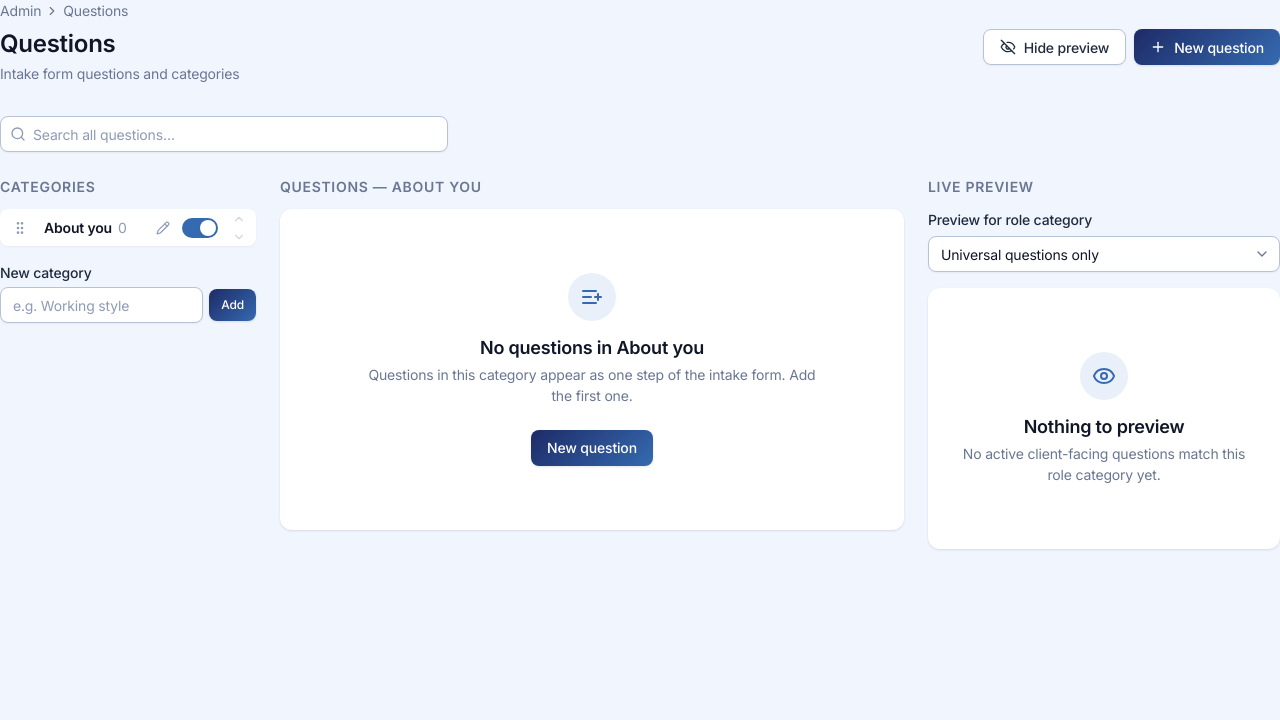
Scenario: validation rules adapt to the question type › shows text rules for short_text and swaps them per type
Click the 1st button "New question" at (1207, 47), box [1134,29,1279,65]
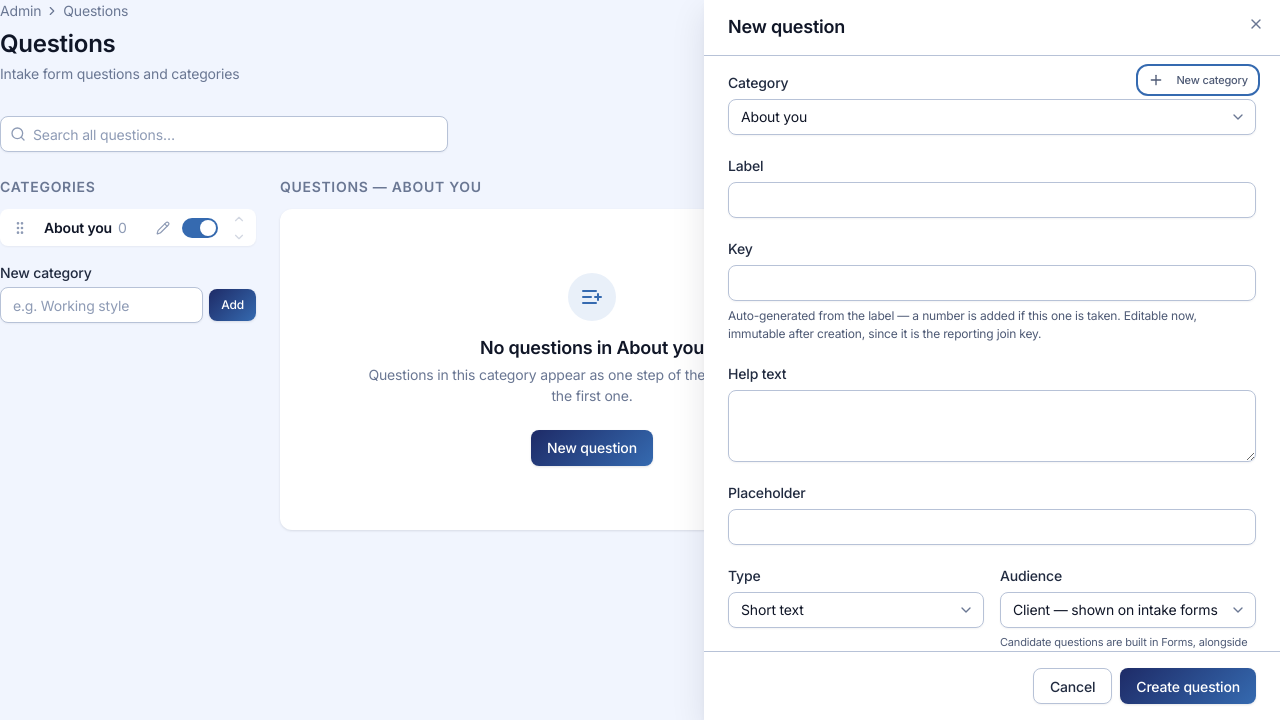
Select "Scale" in the dropdown labelled "Type" at (856, 610), box [728,592,984,628]
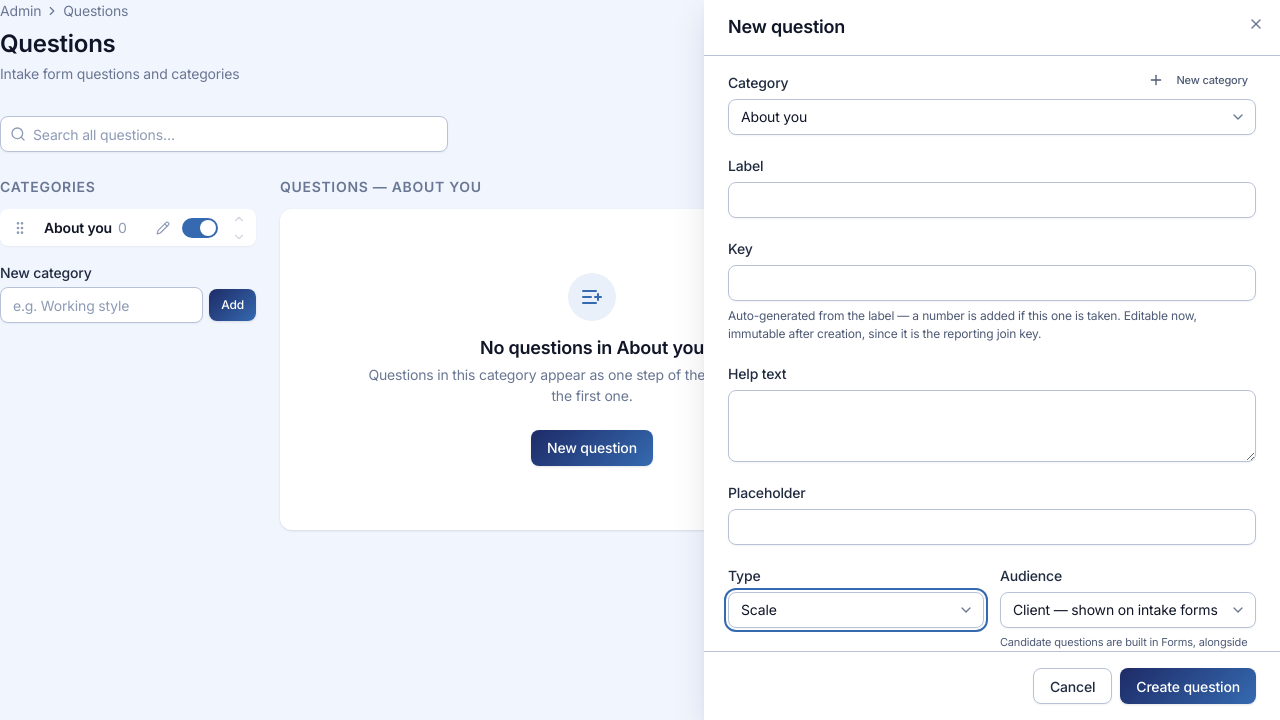
Select "Multi select" in the dropdown labelled "Type" at (856, 610), box [728,592,984,628]
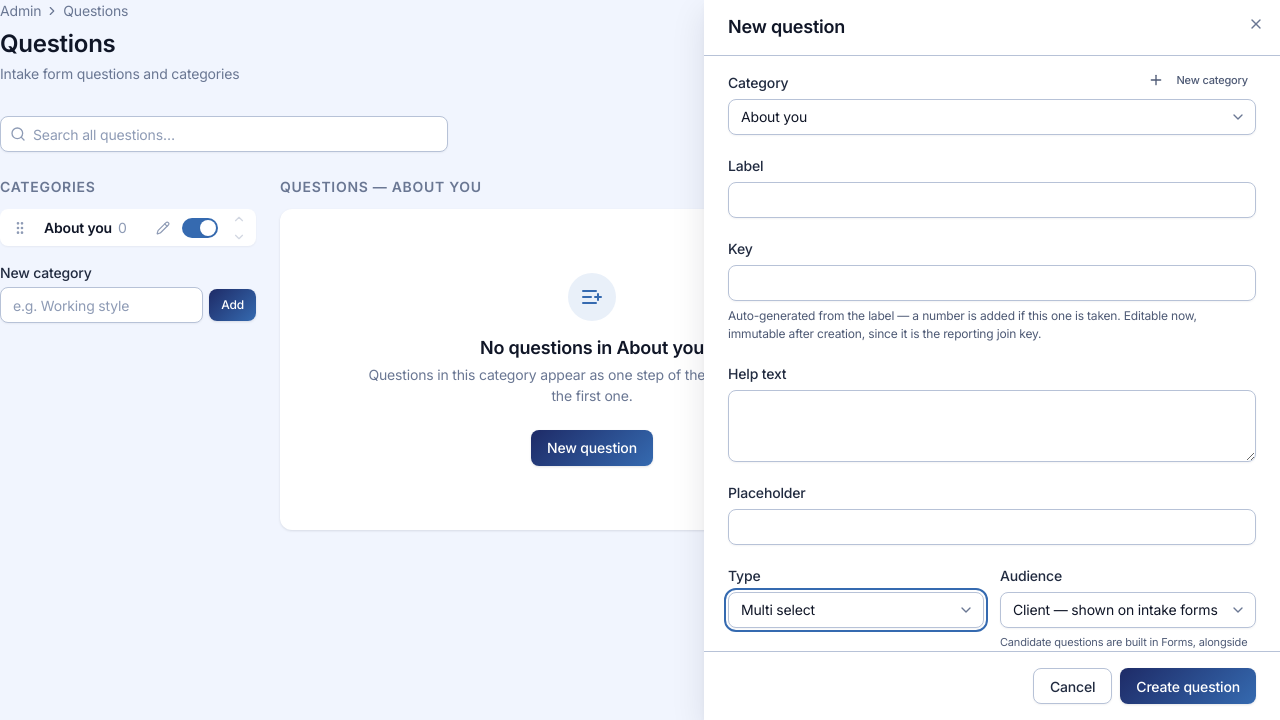
Select "File upload" in the dropdown labelled "Type" at (856, 610), box [728,592,984,628]
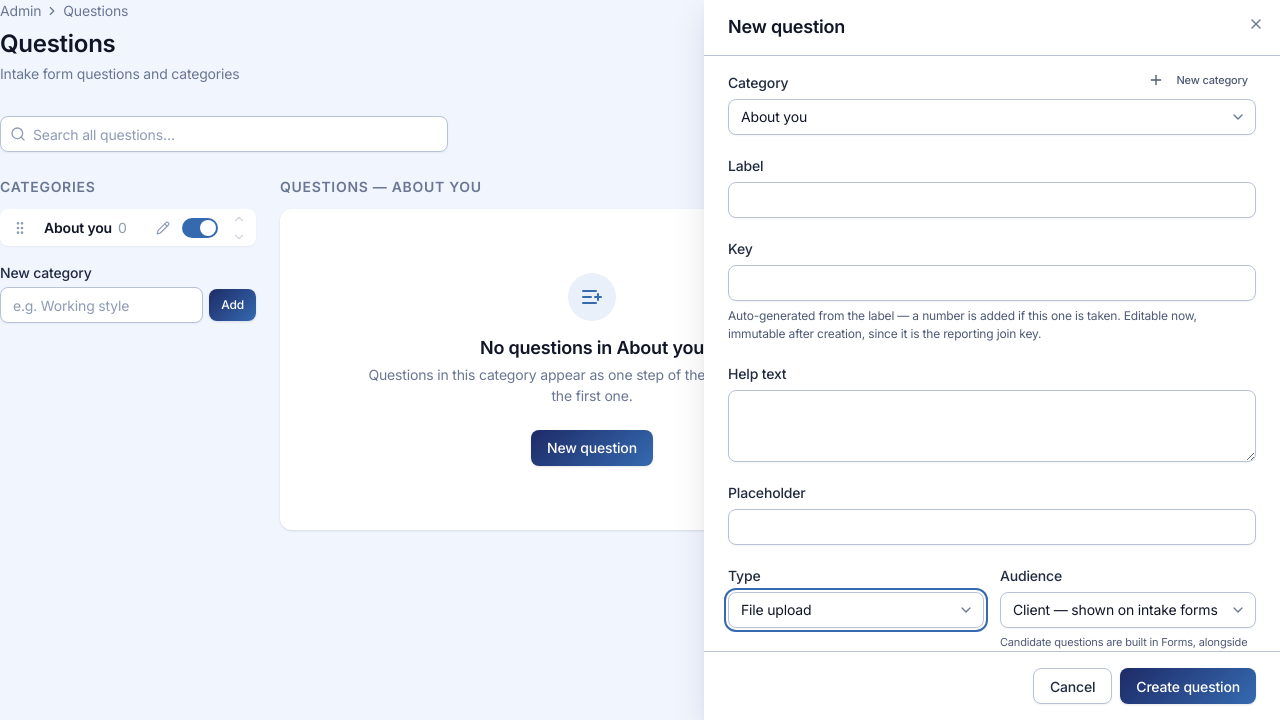
Select "Yes / no" in the dropdown labelled "Type" at (856, 610), box [728,592,984,628]
(page scrolled)
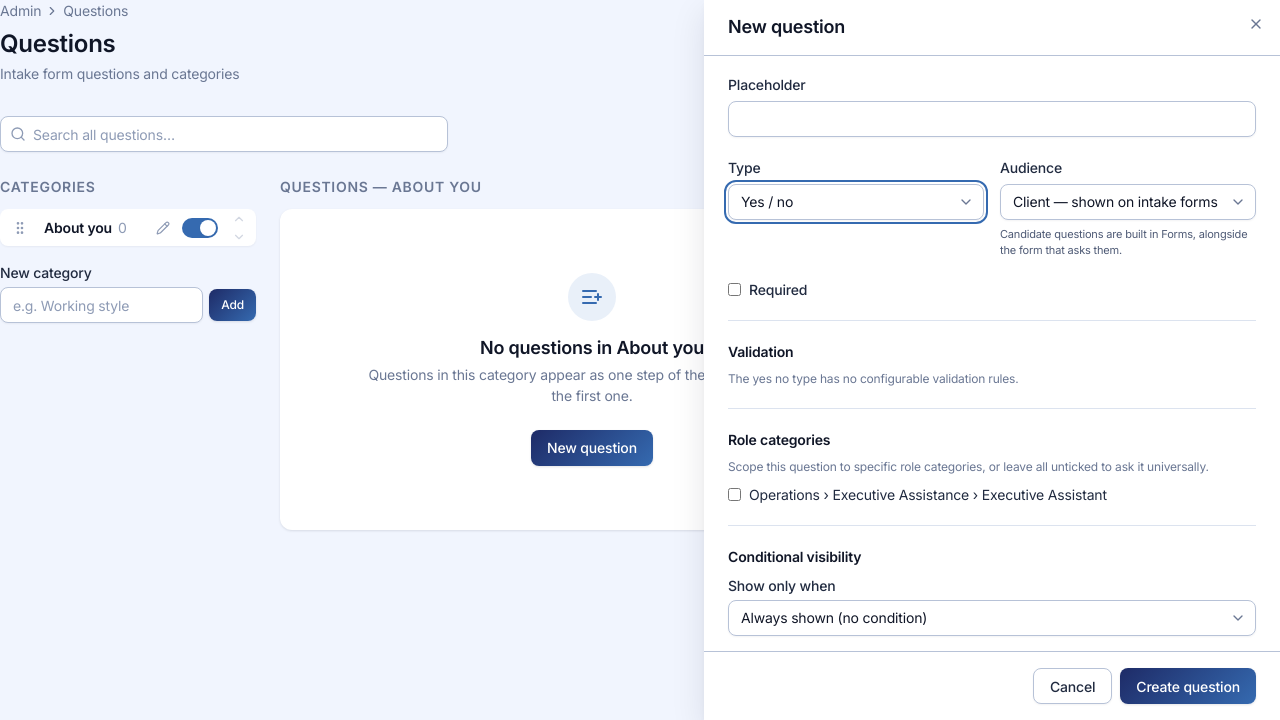
Result: the text "The yes no type has no configurable validation rules." is shown at [728,371,1019,386]
